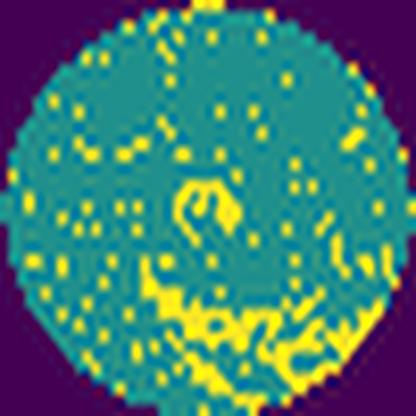Loc: (140, 247, 385, 409), (173, 178, 243, 246)
